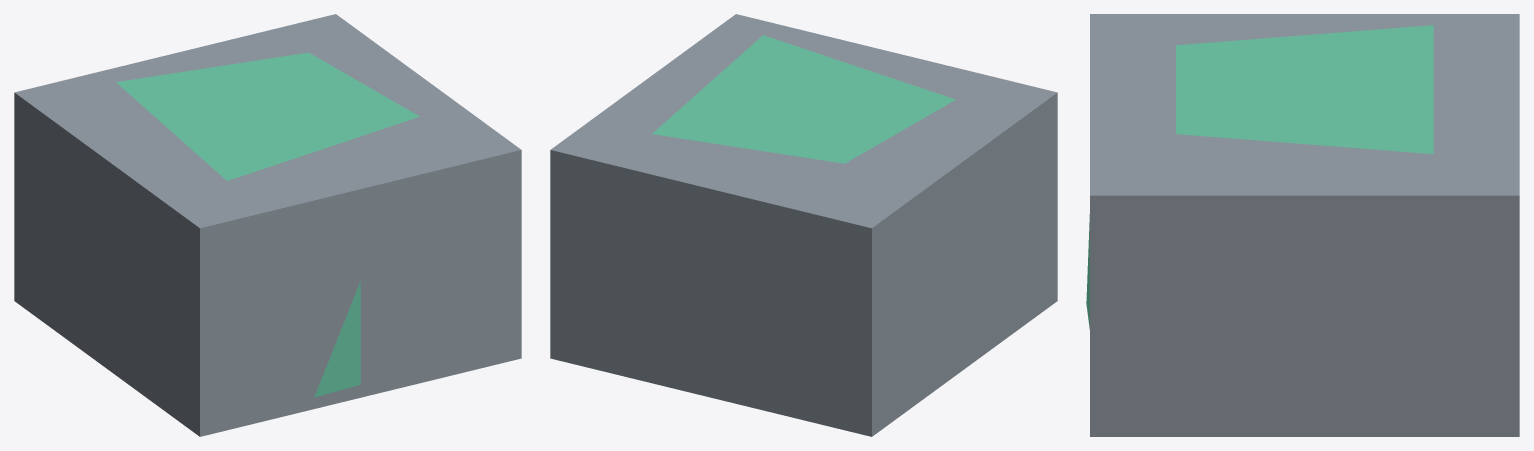
Rendered from CO_GunTurret_LOD1.glb.
3 renders of one model, left to right at view 1: azimuth 30°, elevation 25°; view 2: azimuth 150°, elevation 25°; view 3: azimuth 270°, elevation 25°, orthographic. The views are drawn at different scales.
Parts seen in each view (by area): view 1: EntranceGate; view 2: EntranceGate; view 3: EntranceGate.
Boxes of the visible parts, x1=… form: EntranceGate: x1=14, y1=14, x2=521, y2=436; EntranceGate: x1=550, y1=14, x2=1057, y2=436; EntranceGate: x1=1086, y1=14, x2=1519, y2=436.
Bounding box in the file's own units: 400 × 274 × 403.
